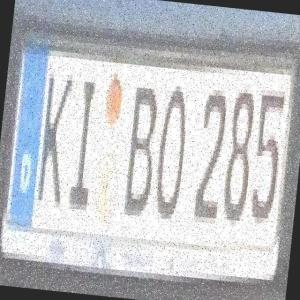Plate: (0, 21, 300, 287)
